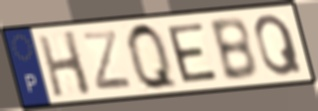B: (207, 14, 260, 83)
E: (164, 20, 221, 85)
H: (35, 28, 95, 100)
Q: (124, 20, 182, 93), (252, 12, 306, 79)
Z: (79, 28, 135, 92)
